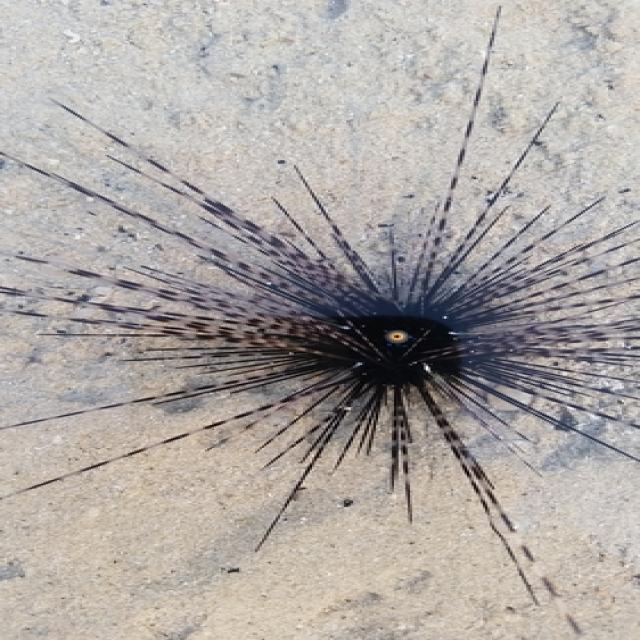Urchin: (2, 5, 640, 600)
